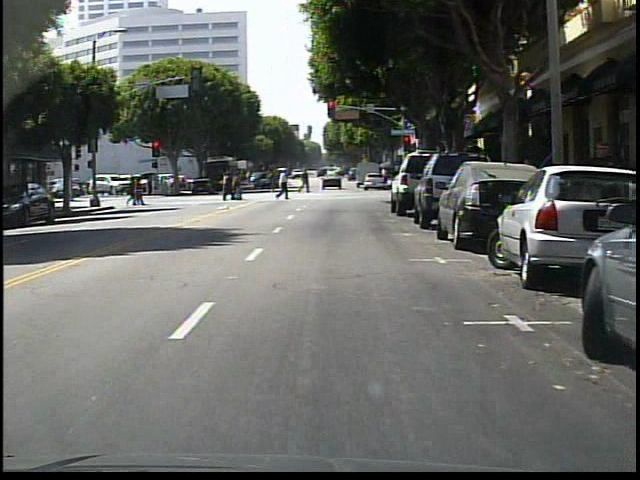person: (270, 166, 292, 205), (295, 167, 313, 197)
